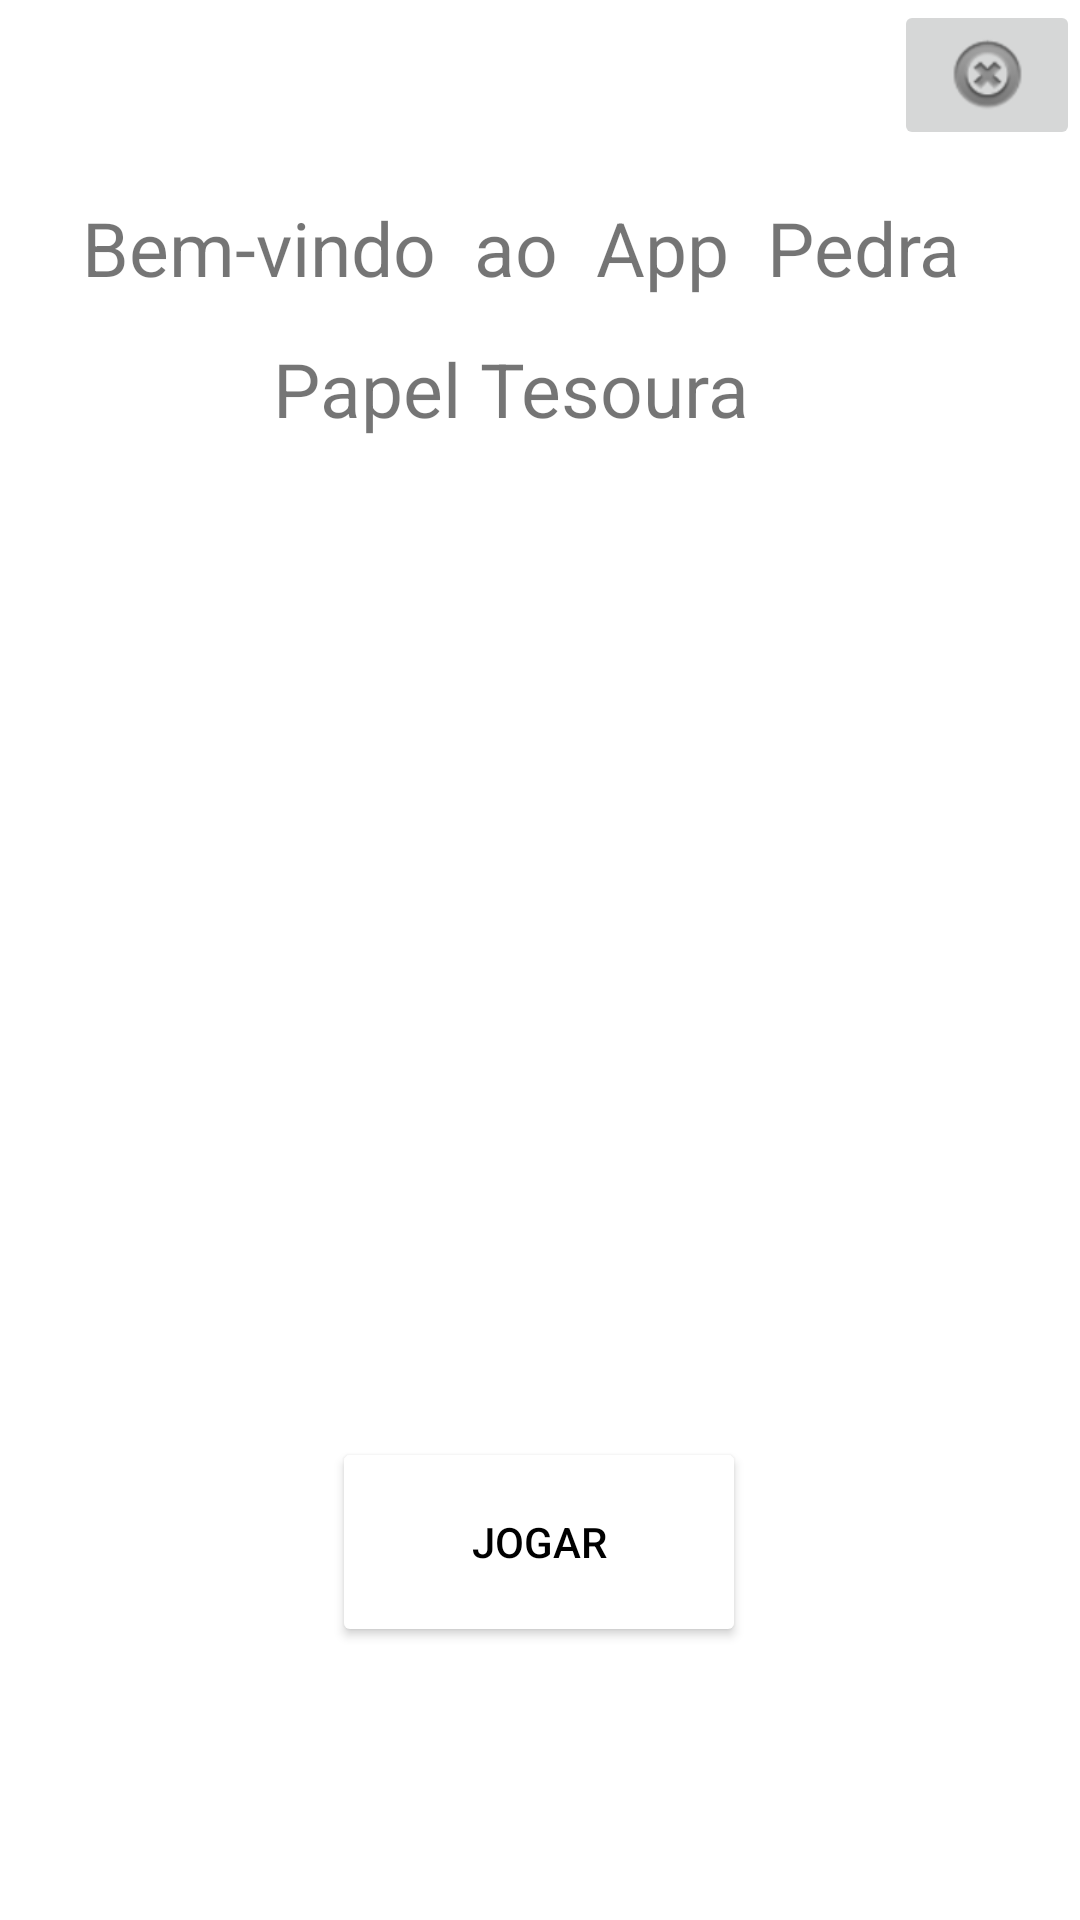

Where to tap for icons on this 1080 × 1920 app screen, as point (x, y):
notification clear all: point (987, 75)
